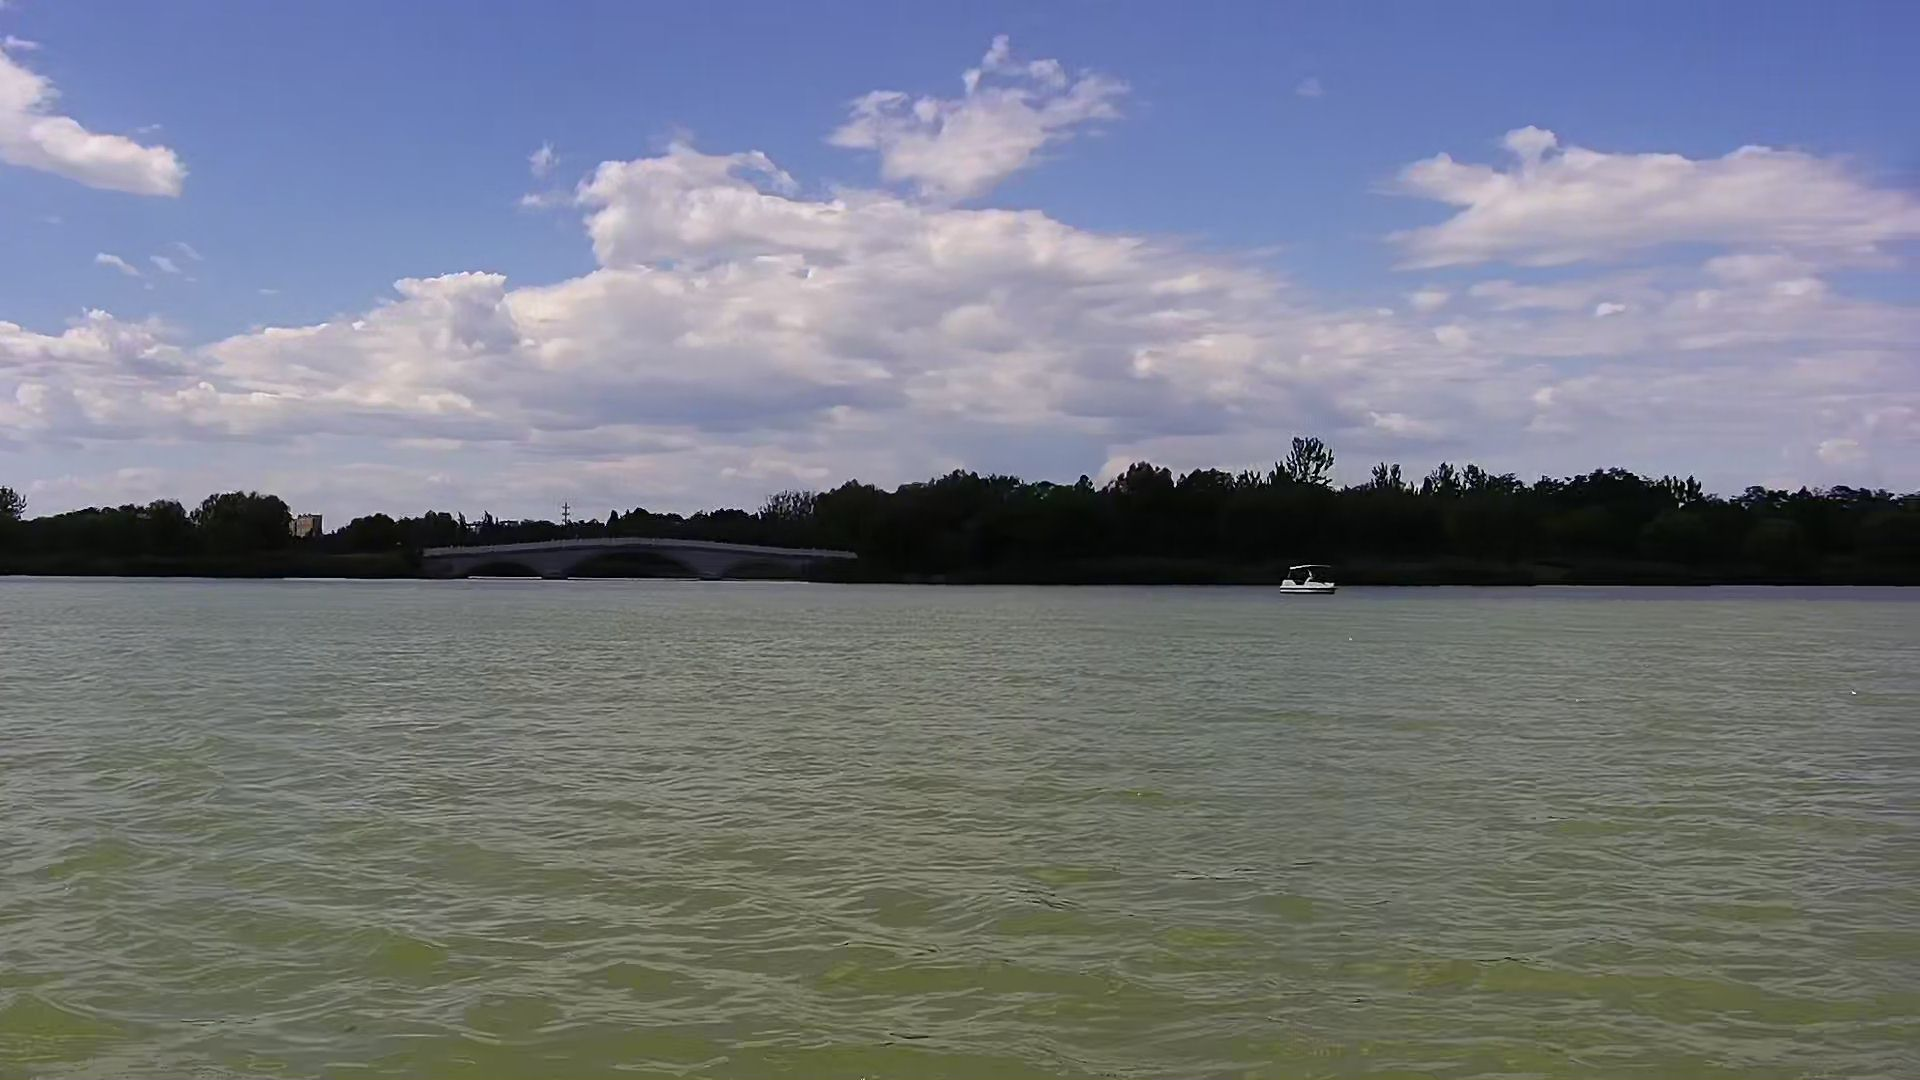boat: (1273, 553, 1346, 603)
bridge: (431, 534, 855, 591)
